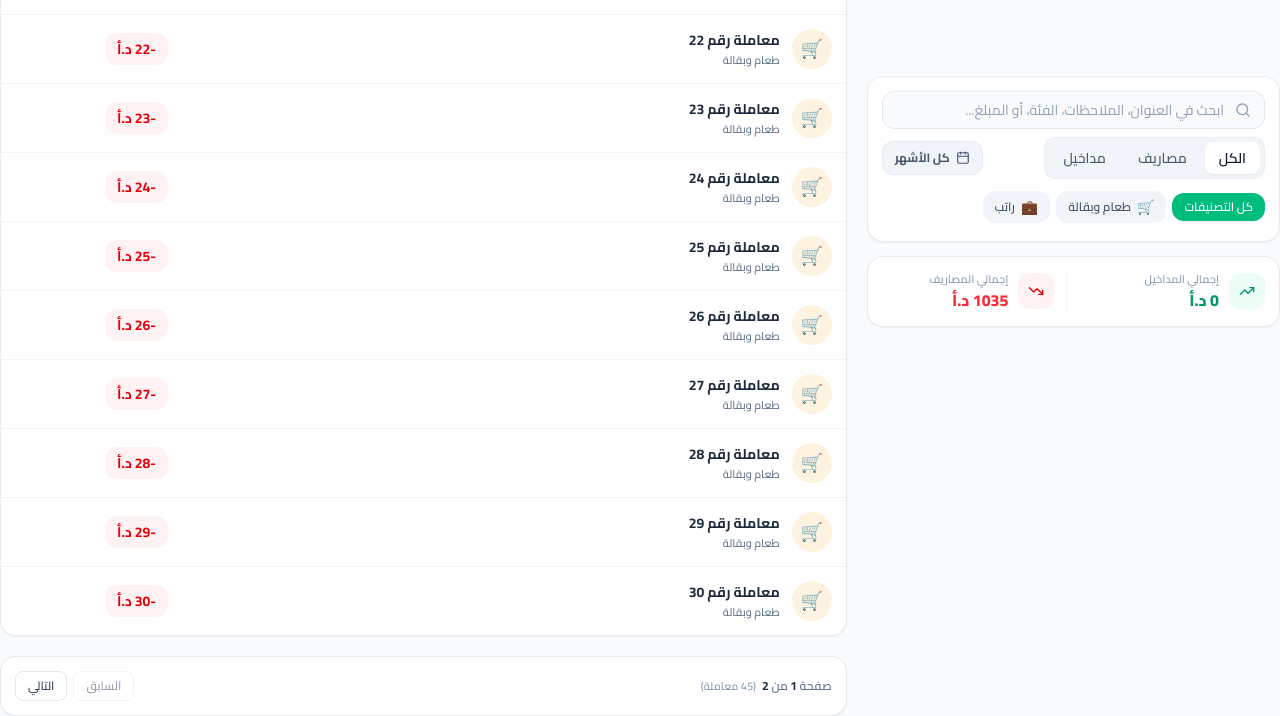
Test: TransactionsPage Component › paginates transactions at 30 items per page and allows navigating between pages
This screenshot has width=1280, height=716.
(page scrolled)
Check: the text "معاملة رقم 30" is shown, box left=689, top=582, right=780, bottom=602
Check: the text "صفحة 1 من 2(45 معاملة)" is shown, box left=701, top=678, right=832, bottom=694
// Click "التالي"
Click the button "التالي" at (41, 686), box left=15, top=671, right=67, bottom=701
(page scrolled)
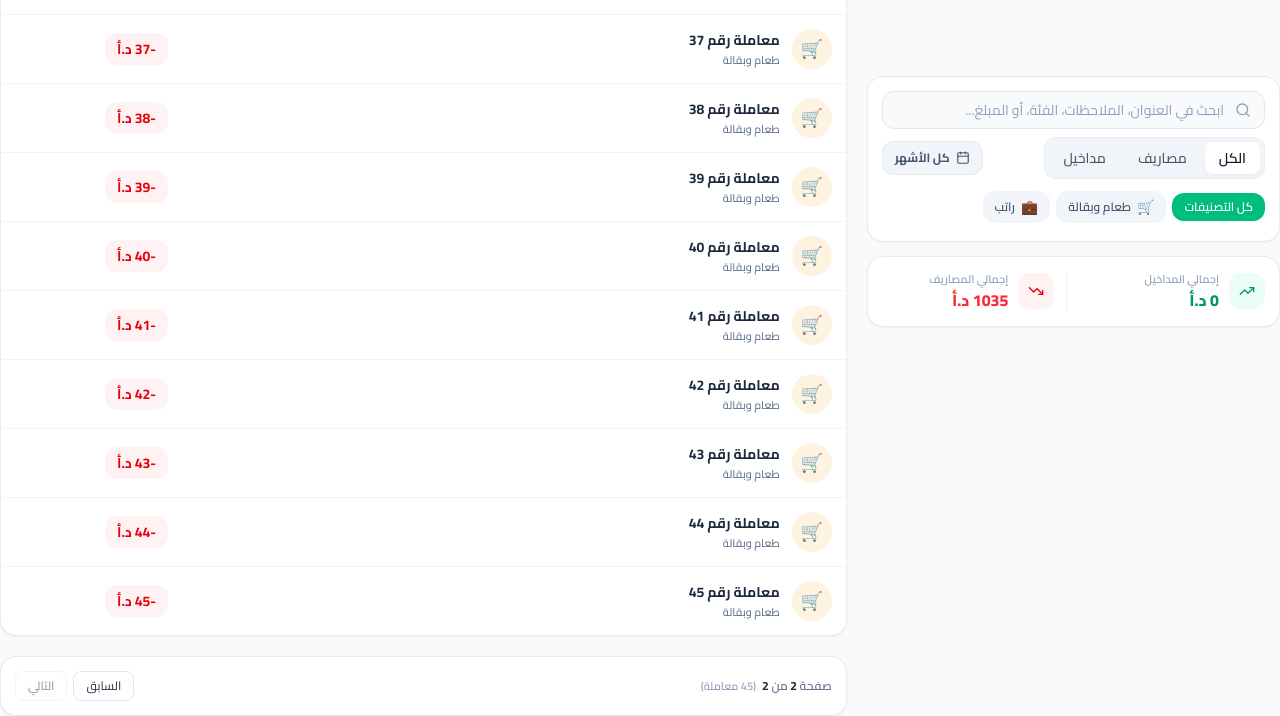
Check: the text "معاملة رقم 45" is shown, box left=689, top=582, right=780, bottom=602
